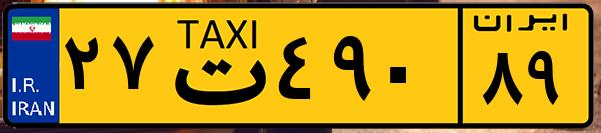0: (385, 28, 445, 110)
2: (57, 26, 110, 100)
4: (270, 28, 330, 110)
7: (110, 28, 158, 98)
8: (475, 38, 525, 113)
9: (330, 28, 385, 110), (525, 38, 570, 115)
ت: (158, 12, 270, 120)
